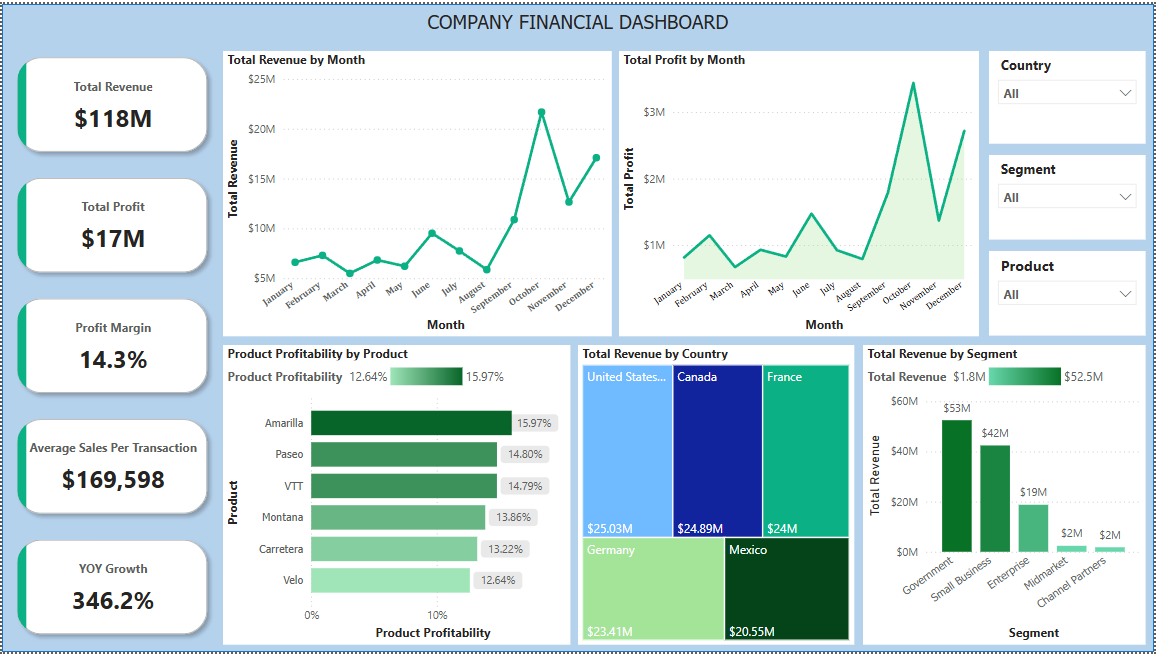

This screenshot's page, from the dashboard's own definition file:
{"tool":"powerbi","page":{"name":"Page 1","canvas":[1280,720],"ordinal":0},"visuals":[{"type":"shape","box":[0,0,1280,720],"z":0},{"type":"cardVisual","fields":{"Data":["financials.Total Revenue","financials.Total Profit","financials.Profit Margin","financials.Average Sales Per Transaction","financials.YOY Growth"]},"box":[0,42.2,245.6,677.8],"z":1000},{"type":"lineChart","fields":{"Y":["financials.Total Revenue"],"Category":["financials.New_Date.Variation.Date Hierarchy.Month"]},"box":[245.6,52.2,432.2,316.7],"z":2000},{"type":"stackedAreaChart","fields":{"Y":["financials.Total Profit"],"Category":["financials.New_Date.Variation.Date Hierarchy.Month"]},"box":[685.6,52.2,400,316.7],"z":3000},{"type":"clusteredBarChart","fields":{"Category":["financials.Product"],"Y":["financials.Product Profitability"]},"box":[245.6,378.9,385.6,333.3],"z":3001},{"type":"treemap","fields":{"Group":["financials.Country"],"Values":["financials.Total Revenue"]},"box":[640,378.9,306.7,333.3],"z":3002},{"type":"columnChart","fields":{"Category":["financials.Segment"],"Y":["financials.Total Revenue"]},"box":[956.7,378.9,314.4,333.3],"z":3003},{"type":"slicer","fields":{"Values":["financials.Country"]},"box":[1096.7,52.2,174.4,103.3],"z":3004},{"type":"slicer","fields":{"Values":["financials.Segment"]},"box":[1096.7,167.8,174.4,94.4],"z":3005},{"type":"slicer","fields":{"Values":["financials.Product"]},"box":[1096.7,274.4,174.4,94.4],"z":3006},{"type":"textbox","box":[0,0,1280,42.2],"z":3007}]}

Visuals, with their boxes in screenshot pixels (x1, y1, x2, y2), scaled from the page's 1280x720 canvas onto the 1158x656 screenshot:
shape: box=[0, 0, 1157, 655]
cardVisual - financials.Total Revenue x financials.Total Profit: box=[0, 38, 222, 655]
lineChart - financials.Total Revenue x financials.New_Date.Variation.Date Hierarchy.Month: box=[222, 48, 613, 336]
stackedAreaChart - financials.Total Profit x financials.New_Date.Variation.Date Hierarchy.Month: box=[620, 48, 982, 336]
clusteredBarChart - financials.Product x financials.Product Profitability: box=[222, 345, 571, 649]
treemap - financials.Country x financials.Total Revenue: box=[579, 345, 856, 649]
columnChart - financials.Segment x financials.Total Revenue: box=[866, 345, 1150, 649]
slicer - financials.Country: box=[992, 48, 1150, 142]
slicer - financials.Segment: box=[992, 153, 1150, 239]
slicer - financials.Product: box=[992, 250, 1150, 336]
textbox: box=[0, 0, 1157, 38]
